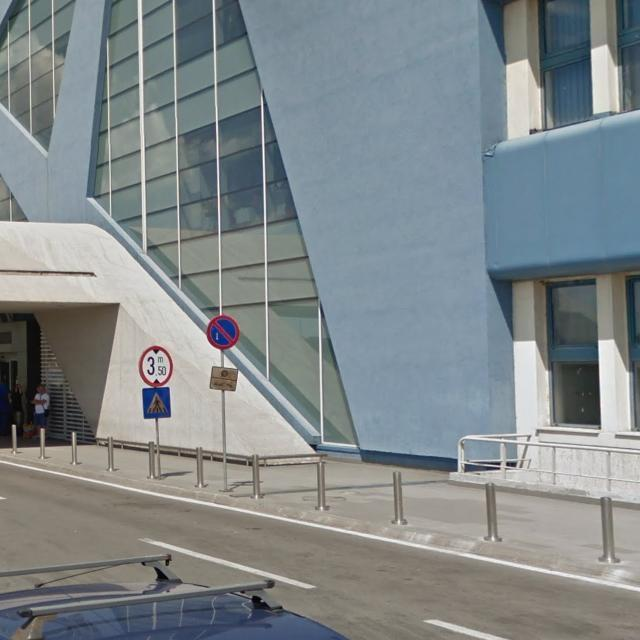info_crosswalk: (143, 387, 172, 419)
